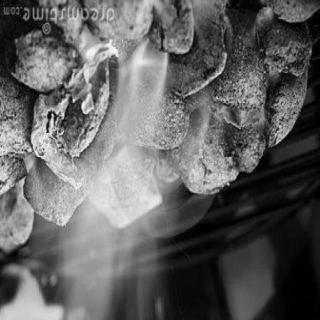Fire: (40, 12, 283, 316)
